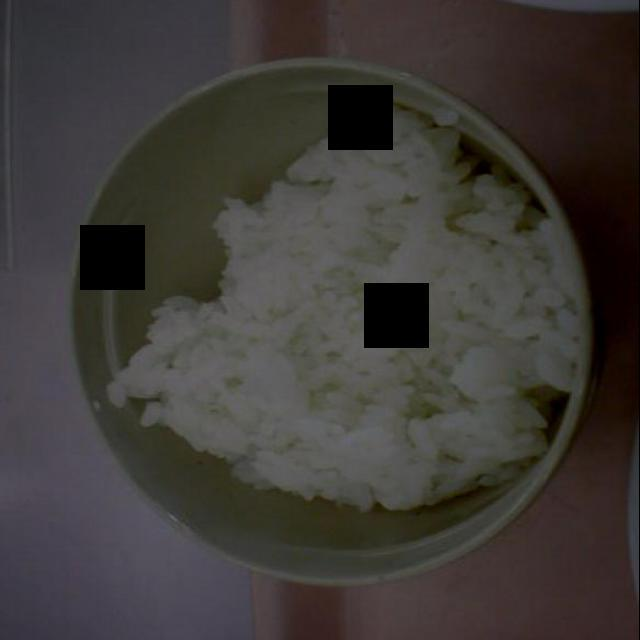rice: (103, 100, 582, 512)
